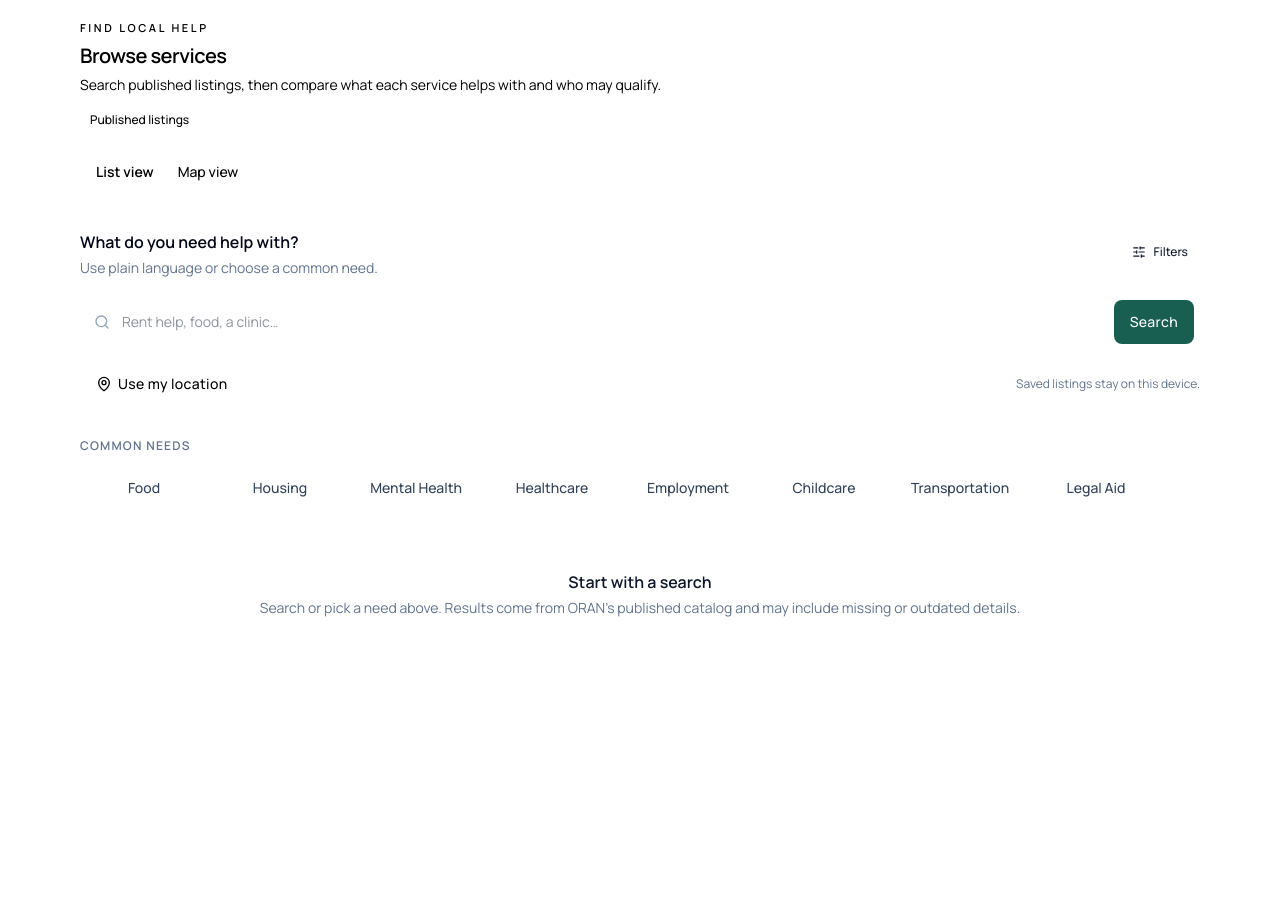
Scenario: DirectoryPageClient › shows a browser-unavailable message when navigator is unavailable
Click the button "Use my location": (162,384) [80,362,244,406]
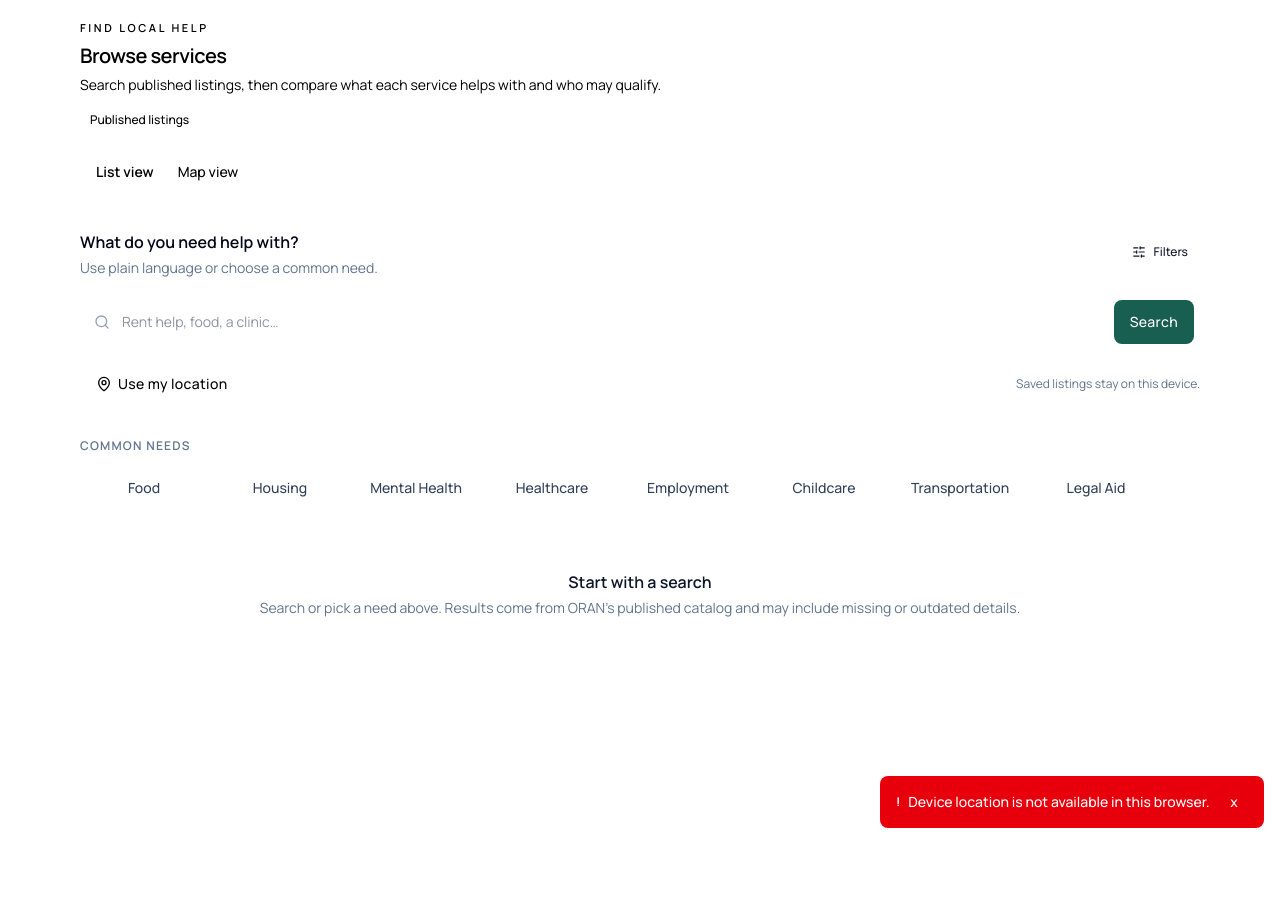
Result: the text "Device location is not available in this browser." is shown at [908,792,1212,812]
